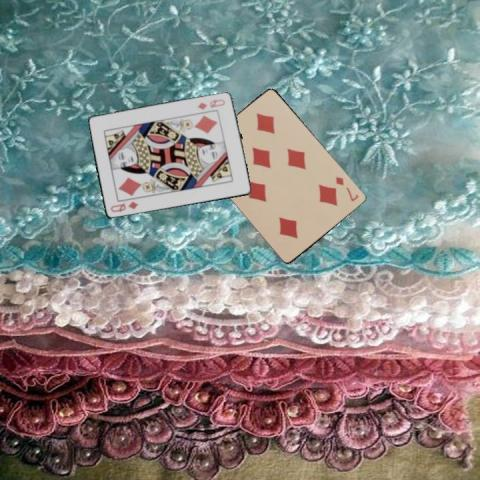7d: (333, 173, 360, 203)
Qd: (107, 199, 139, 214), (195, 97, 226, 111)
